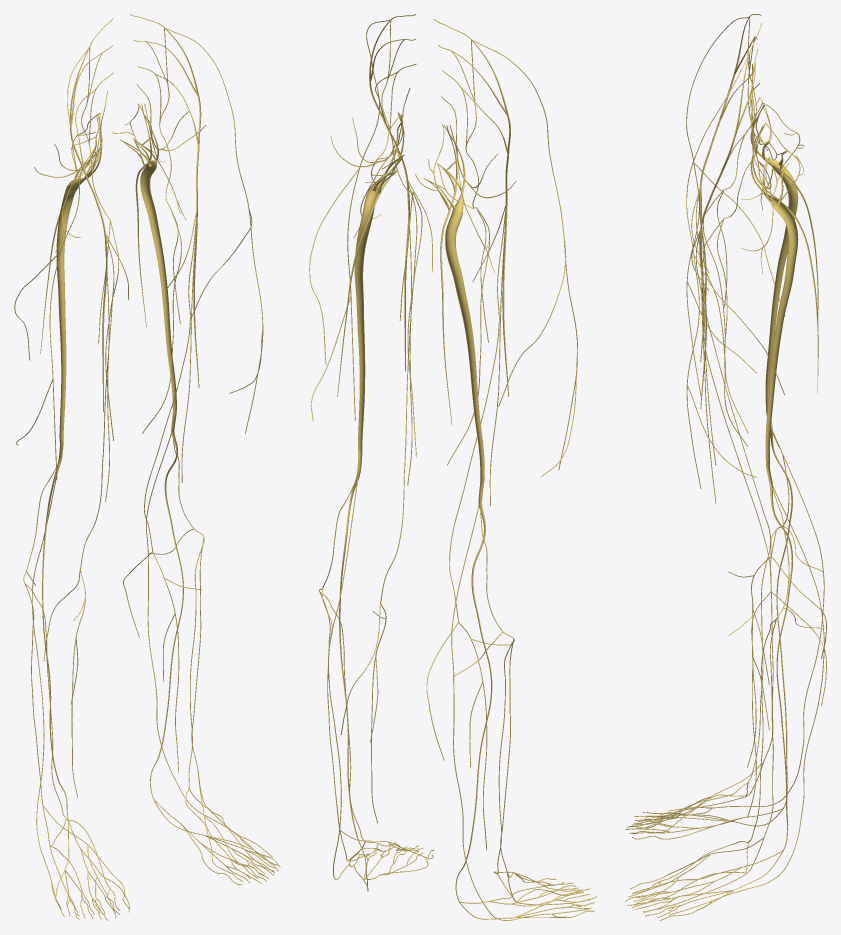
File: lower-limb-nerves.glb
3 views of the same model, side by side, from view 1: azimuth 30°, elevation 25°; view 2: azimuth 150°, elevation 25°; view 3: azimuth 270°, elevation 25° (orthographic). The views are drawn at different scales.
Parts seen in each view (by area): view 1: ZA_sciatic_nerve_r, ZA_sciatic_nerve_l, ZA_femoral_nerve_r, ZA_femoral_nerve_l, ZA_saphenous_nerve_l, ZA_saphenous_nerve_r, ZA_lateral_femoral_cutaneous_nerve_r, ZA_lateral_femoral_cutaneous_nerve_l, ZA_tibial_nerve_l, ZA_tibial_nerve_r, ZA_sural_nerve_l, ZA_sural_nerve_r; view 2: ZA_sciatic_nerve_r, ZA_sciatic_nerve_l, ZA_saphenous_nerve_r, ZA_saphenous_nerve_l, ZA_femoral_nerve_r, ZA_lateral_femoral_cutaneous_nerve_l, ZA_lateral_femoral_cutaneous_nerve_r, ZA_femoral_nerve_l, ZA_tibial_nerve_l, ZA_tibial_nerve_r, ZA_sural_nerve_r; view 3: ZA_sciatic_nerve_l, ZA_sciatic_nerve_r, ZA_saphenous_nerve_l, ZA_lateral_femoral_cutaneous_nerve_l, ZA_femoral_nerve_l, ZA_saphenous_nerve_r, ZA_lateral_femoral_cutaneous_nerve_r, ZA_femoral_nerve_r, ZA_tibial_nerve_l, ZA_tibial_nerve_r, ZA_sural_nerve_l, ZA_sural_nerve_r (+4 smaller).
Boxes of the visible parts, box(x1,y1,x2,y2) form: ZA_sciatic_nerve_r: box(56, 114, 101, 457); ZA_sciatic_nerve_l: box(120, 104, 176, 428); ZA_femoral_nerve_r: box(70, 18, 112, 411); ZA_femoral_nerve_l: box(129, 14, 201, 387); ZA_saphenous_nerve_l: box(123, 212, 197, 772); ZA_saphenous_nerve_r: box(43, 235, 114, 797); ZA_lateral_femoral_cutaneous_nerve_r: box(14, 46, 90, 479); ZA_lateral_femoral_cutaneous_nerve_l: box(165, 28, 263, 433); ZA_tibial_nerve_l: box(150, 428, 183, 797); ZA_tibial_nerve_r: box(42, 456, 68, 817); ZA_sural_nerve_l: box(146, 513, 272, 857); ZA_sural_nerve_r: box(32, 539, 61, 908); ZA_sciatic_nerve_r: box(423, 125, 484, 499); ZA_sciatic_nerve_l: box(354, 113, 401, 469); ZA_saphenous_nerve_r: box(426, 210, 505, 850); ZA_saphenous_nerve_l: box(340, 180, 417, 823); ZA_femoral_nerve_r: box(434, 18, 510, 396); ZA_lateral_femoral_cutaneous_nerve_l: box(309, 20, 389, 420); ZA_lateral_femoral_cutaneous_nerve_r: box(471, 39, 577, 476); ZA_femoral_nerve_l: box(369, 14, 415, 371); ZA_tibial_nerve_l: box(339, 469, 367, 877); ZA_tibial_nerve_r: box(455, 499, 492, 900); ZA_sural_nerve_r: box(451, 623, 588, 920); ZA_sciatic_nerve_l: box(750, 124, 798, 481); ZA_sciatic_nerve_r: box(750, 103, 798, 426); ZA_saphenous_nerve_l: box(695, 227, 826, 817); ZA_lateral_femoral_cutaneous_nerve_l: box(686, 54, 784, 488); ZA_femoral_nerve_l: box(699, 23, 761, 408); ZA_saphenous_nerve_r: box(695, 186, 826, 767); ZA_lateral_femoral_cutaneous_nerve_r: box(686, 16, 785, 395); ZA_femoral_nerve_r: box(699, 14, 761, 361); ZA_tibial_nerve_l: box(769, 481, 792, 849); ZA_tibial_nerve_r: box(770, 426, 792, 807); ZA_sural_nerve_l: box(668, 580, 824, 915); ZA_sural_nerve_r: box(668, 529, 824, 813).
Size of the model in its own units: 0.3076 by 1.06 by 0.2283.
